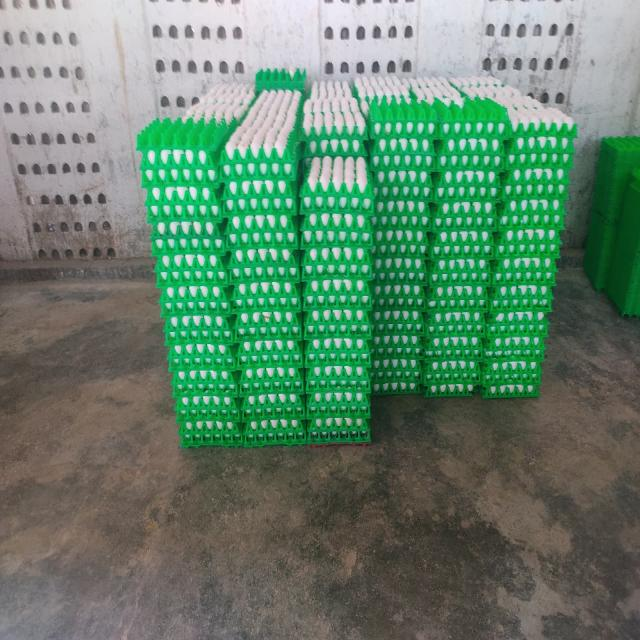egg_tray: (223, 91, 306, 446), (483, 88, 575, 396), (416, 82, 506, 395), (301, 157, 372, 443), (301, 157, 372, 442), (370, 99, 436, 394), (156, 247, 240, 445), (372, 117, 432, 394), (156, 253, 241, 445), (138, 85, 252, 225), (424, 202, 494, 395), (138, 118, 228, 255), (138, 85, 254, 187), (234, 282, 304, 445), (425, 225, 492, 395), (156, 253, 236, 394), (301, 157, 373, 307), (304, 279, 370, 439), (404, 77, 500, 185), (165, 314, 242, 445), (166, 309, 240, 445), (304, 279, 370, 429), (488, 87, 576, 199), (585, 137, 640, 315), (222, 91, 300, 213), (226, 212, 301, 338), (236, 281, 304, 417), (494, 87, 576, 199), (238, 311, 306, 445), (156, 253, 234, 369), (485, 241, 556, 362), (166, 314, 239, 429), (152, 220, 230, 327), (310, 306, 371, 441), (167, 335, 241, 445), (234, 277, 302, 394), (304, 274, 371, 391), (496, 199, 563, 315), (238, 331, 304, 445), (160, 284, 236, 382), (426, 228, 492, 339), (495, 201, 562, 310), (221, 90, 302, 180), (227, 212, 300, 311), (407, 78, 507, 150), (154, 251, 232, 343), (372, 255, 424, 393), (302, 233, 372, 335), (434, 99, 505, 199), (306, 333, 370, 443), (373, 209, 428, 336), (473, 87, 577, 153), (227, 245, 301, 337), (306, 335, 370, 441), (306, 337, 370, 443), (300, 157, 373, 248), (224, 193, 299, 281), (170, 343, 240, 434), (138, 119, 228, 189), (434, 137, 503, 227), (223, 156, 297, 239), (162, 285, 235, 369), (494, 199, 564, 285), (428, 202, 494, 293), (222, 151, 298, 230), (490, 226, 560, 311), (370, 77, 434, 169), (170, 363, 241, 445), (482, 308, 548, 396), (305, 303, 370, 392), (234, 281, 301, 367), (482, 309, 548, 396), (374, 201, 430, 303), (238, 331, 304, 417), (425, 228, 492, 312), (492, 227, 559, 309), (494, 87, 577, 153), (429, 96, 502, 169), (424, 277, 485, 364), (147, 185, 221, 256), (170, 343, 239, 419), (370, 102, 436, 181), (370, 119, 434, 199), (423, 309, 483, 394), (222, 178, 296, 245), (302, 82, 368, 157), (425, 309, 483, 394), (434, 131, 504, 201), (172, 364, 240, 427), (482, 331, 544, 397), (300, 157, 374, 211), (182, 85, 254, 137), (302, 99, 366, 157), (239, 359, 304, 415), (496, 95, 574, 139), (174, 369, 240, 421), (373, 199, 430, 259), (436, 94, 508, 139), (374, 200, 430, 257), (224, 209, 299, 251), (234, 336, 288, 394), (182, 84, 255, 126), (503, 138, 574, 179), (301, 197, 370, 239), (146, 186, 222, 224), (146, 185, 222, 223), (372, 254, 424, 309), (369, 98, 438, 139), (222, 177, 297, 214), (300, 211, 373, 249), (154, 252, 228, 289), (150, 220, 224, 256), (302, 275, 372, 312), (373, 253, 426, 301), (301, 246, 372, 281), (228, 247, 300, 281), (502, 165, 570, 200), (160, 283, 230, 316), (428, 227, 494, 262), (508, 135, 572, 171), (422, 358, 481, 397), (353, 75, 410, 115), (482, 359, 541, 397), (434, 139, 504, 171), (369, 138, 435, 171), (494, 227, 561, 259), (502, 167, 569, 199), (237, 337, 304, 369), (306, 157, 357, 199), (433, 170, 502, 201), (423, 359, 480, 396), (231, 281, 301, 311), (430, 201, 499, 231), (498, 199, 564, 230), (372, 355, 423, 395), (164, 314, 234, 343), (241, 389, 304, 421), (433, 169, 498, 200), (304, 337, 371, 367), (425, 257, 492, 287), (372, 354, 422, 394), (370, 141, 436, 171), (372, 308, 424, 346), (492, 256, 557, 286), (504, 143, 573, 171), (178, 417, 242, 447), (372, 199, 431, 231), (486, 310, 548, 340), (372, 169, 432, 200), (490, 283, 553, 312), (243, 418, 306, 447), (424, 309, 484, 339), (306, 391, 370, 419), (425, 309, 484, 339), (179, 419, 242, 447), (404, 77, 462, 107), (308, 417, 370, 445), (448, 99, 505, 129), (484, 333, 544, 361), (372, 304, 424, 335), (440, 133, 500, 159), (425, 334, 482, 361), (372, 331, 422, 360), (154, 226, 204, 254), (448, 76, 503, 101), (256, 68, 306, 92), (154, 221, 213, 241), (307, 81, 354, 101), (500, 311, 543, 331), (376, 229, 424, 246), (448, 76, 502, 91), (430, 260, 464, 277), (498, 325, 537, 339), (318, 310, 342, 332), (487, 385, 536, 395), (356, 281, 370, 307), (359, 159, 369, 193), (464, 259, 483, 276), (380, 289, 398, 305), (393, 317, 410, 333), (215, 343, 232, 359), (360, 161, 368, 193), (455, 106, 470, 123), (238, 290, 252, 305), (190, 331, 210, 341), (168, 331, 188, 341), (456, 111, 470, 123), (420, 102, 435, 112), (308, 371, 315, 392), (181, 316, 225, 319), (498, 387, 514, 395), (406, 140, 424, 147), (377, 105, 392, 113), (408, 297, 422, 305), (441, 121, 450, 133), (174, 287, 184, 297), (414, 122, 430, 128), (339, 353, 348, 363), (260, 367, 282, 371), (540, 136, 548, 147), (338, 365, 360, 369), (393, 245, 404, 252), (380, 105, 394, 110), (360, 433, 370, 440), (208, 438, 222, 443), (408, 125, 416, 133), (416, 289, 423, 298), (260, 423, 270, 429), (391, 191, 406, 195), (378, 203, 392, 207), (528, 137, 535, 145), (449, 146, 460, 151), (256, 284, 262, 293), (204, 227, 214, 232), (437, 191, 444, 198), (376, 264, 382, 272), (562, 137, 568, 145), (408, 301, 419, 305), (216, 166, 220, 177), (472, 145, 482, 149), (505, 230, 514, 234), (235, 438, 240, 445), (266, 374, 273, 379), (515, 389, 523, 393), (210, 439, 218, 443), (152, 237, 158, 242), (528, 229, 534, 234), (458, 207, 463, 213), (503, 127, 508, 133), (368, 89, 372, 96), (395, 105, 402, 109), (340, 433, 347, 437), (524, 345, 528, 352), (472, 217, 476, 224), (143, 171, 145, 185), (520, 173, 527, 177), (327, 354, 336, 357), (363, 424, 368, 429), (517, 288, 522, 293), (188, 288, 193, 293), (384, 114, 392, 117), (496, 343, 502, 347), (506, 309, 514, 312), (463, 217, 467, 223), (468, 207, 472, 213), (262, 425, 270, 428), (351, 299, 355, 305), (430, 83, 438, 86), (376, 236, 382, 240), (533, 173, 539, 177), (498, 289, 504, 293), (401, 174, 404, 181), (173, 225, 177, 230), (158, 278, 162, 283), (527, 389, 532, 393), (539, 336, 543, 341), (512, 169, 517, 173), (480, 217, 485, 221), (475, 210, 479, 215), (216, 154, 218, 164), (174, 141, 179, 145), (494, 125, 498, 130), (559, 174, 564, 178), (324, 434, 329, 438), (241, 317, 244, 323), (309, 289, 312, 295), (219, 345, 228, 347), (284, 223, 290, 226), (208, 371, 212, 375), (361, 257, 365, 261), (428, 354, 436, 356), (514, 345, 518, 349), (416, 203, 424, 205), (392, 203, 400, 205), (252, 413, 256, 417), (166, 141, 170, 145), (313, 335, 317, 339), (408, 243, 412, 247), (240, 312, 245, 315), (491, 376, 494, 381), (537, 229, 542, 232), (237, 288, 240, 293), (178, 345, 183, 348), (399, 175, 404, 178), (341, 434, 346, 437), (426, 367, 428, 374), (424, 105, 430, 107), (214, 414, 218, 417), (323, 341, 326, 345), (494, 127, 498, 130), (512, 194, 516, 197), (524, 173, 526, 179), (199, 287, 202, 291), (146, 169, 149, 173), (312, 367, 316, 370), (380, 141, 386, 143), (498, 122, 504, 124), (310, 429, 312, 435), (390, 148, 395, 150), (349, 434, 354, 436), (444, 217, 449, 219), (490, 392, 495, 394), (508, 245, 513, 247), (561, 194, 563, 199), (356, 159, 361, 161), (154, 245, 157, 248), (500, 245, 503, 248), (498, 307, 501, 310), (422, 193, 425, 196), (358, 281, 361, 284), (412, 148, 416, 150), (546, 230, 550, 232), (550, 230, 554, 232), (296, 399, 298, 403), (218, 425, 222, 427), (190, 358, 194, 360), (224, 340, 228, 342), (384, 353, 392, 354), (368, 195, 370, 199), (234, 297, 236, 301), (208, 237, 211, 239), (510, 339, 512, 342), (534, 176, 537, 178), (401, 203, 404, 205), (244, 412, 246, 415), (303, 123, 306, 125), (528, 173, 530, 176), (396, 107, 398, 110), (506, 290, 508, 293), (221, 373, 226, 374), (211, 442, 216, 443), (361, 433, 362, 437), (362, 434, 364, 436), (216, 439, 218, 441), (492, 218, 494, 220), (277, 217, 279, 219), (204, 241, 206, 243), (210, 102, 212, 104), (431, 91, 435, 92), (296, 375, 298, 377), (294, 241, 296, 243), (443, 95, 444, 99), (452, 89, 454, 91), (466, 101, 468, 103), (368, 327, 370, 329), (344, 203, 346, 205), (394, 173, 396, 175), (374, 107, 376, 109), (372, 106, 373, 109), (163, 247, 166, 248), (517, 327, 520, 328), (204, 338, 207, 339), (287, 236, 288, 239), (303, 223, 305, 224), (359, 265, 361, 266), (532, 327, 534, 328), (525, 326, 526, 328), (562, 176, 564, 177), (516, 145, 518, 146), (208, 426, 210, 427), (191, 338, 193, 339), (317, 371, 319, 372), (398, 106, 399, 108), (366, 202, 368, 203), (236, 389, 237, 390), (174, 380, 175, 381), (305, 111, 306, 112), (187, 338, 188, 339), (558, 194, 559, 195), (461, 105, 462, 106), (239, 242, 240, 243), (207, 332, 208, 333), (394, 175, 395, 176), (556, 144, 557, 145), (156, 198, 157, 199), (369, 205, 370, 206), (263, 167, 264, 168), (276, 384, 276, 386), (251, 341, 252, 341), (423, 149, 423, 150), (162, 223, 164, 223), (192, 238, 192, 241), (310, 300, 310, 301), (545, 325, 545, 326), (491, 325, 493, 325), (296, 238, 296, 239), (512, 376, 512, 377), (543, 347, 543, 348), (510, 345, 510, 345), (545, 327, 545, 328), (485, 203, 485, 205), (404, 203, 412, 203), (501, 131, 501, 132), (169, 299, 171, 299), (210, 174, 210, 177), (466, 103, 466, 103), (209, 345, 211, 345), (258, 321, 259, 321), (276, 154, 276, 155), (316, 391, 316, 392), (338, 327, 346, 327), (341, 314, 341, 315), (319, 310, 319, 311), (261, 243, 262, 243), (209, 427, 211, 427), (163, 309, 163, 310), (223, 296, 223, 299), (414, 245, 418, 245), (498, 118, 498, 119), (382, 243, 384, 243), (319, 434, 319, 436), (367, 286, 367, 288), (303, 223, 304, 223), (543, 137, 543, 137), (532, 161, 532, 161)
